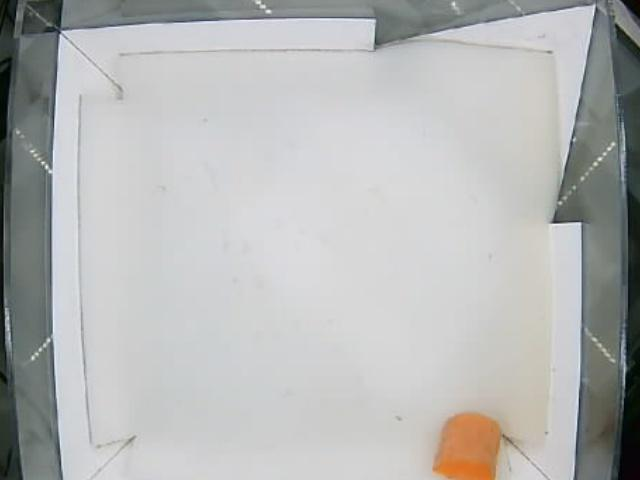Carrot: (431, 411, 501, 479)
